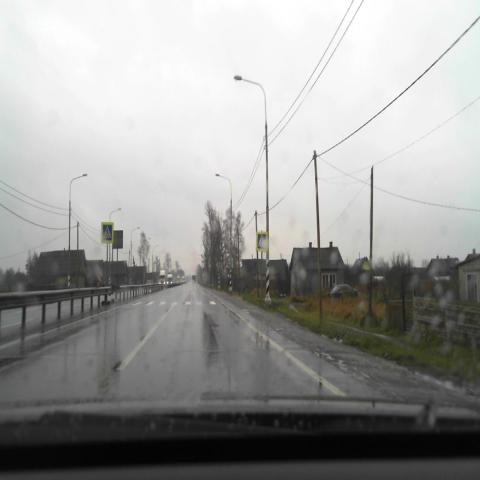5_19_1: (101, 222, 113, 243), (256, 232, 267, 252)
